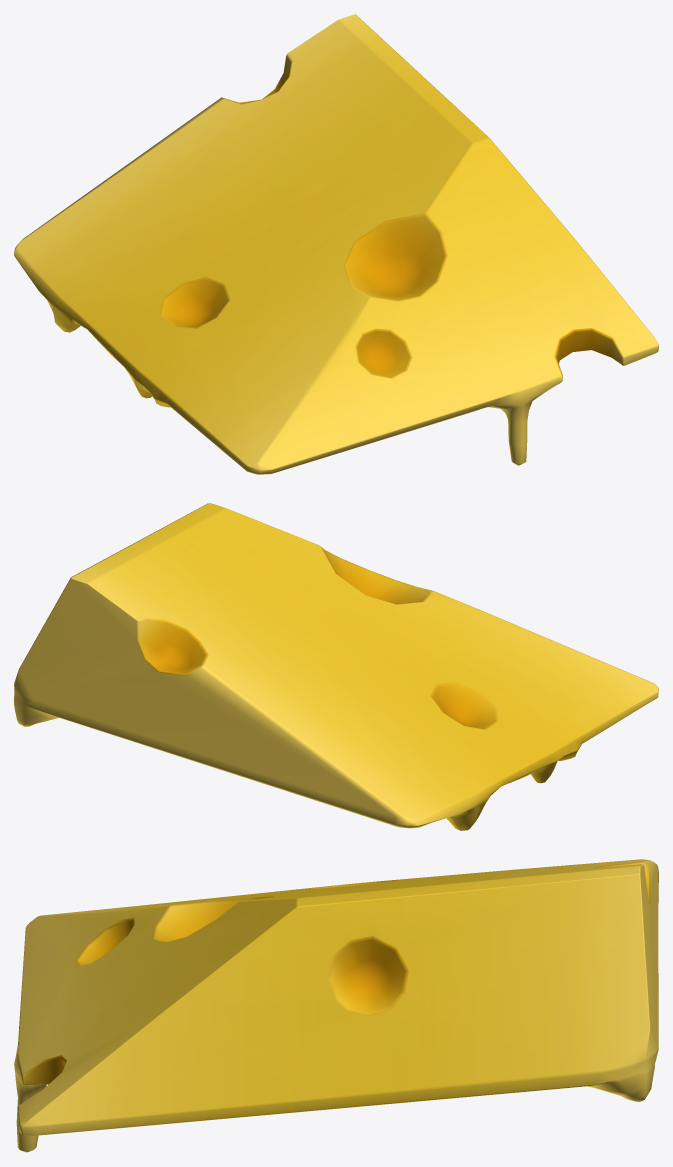
File: mod_sc_roma_topcheese_003.fbx
The picture shows the model from 3 angles, top to bottom: view 1: azimuth 30°, elevation 25°; view 2: azimuth 150°, elevation 25°; view 3: azimuth 270°, elevation 25°; orthographic projection. The views are drawn at different scales.
Visible parts, largest first — view 1: mod_sc_roma_topcheese_003; view 2: mod_sc_roma_topcheese_003; view 3: mod_sc_roma_topcheese_003.
Part boxes in pixels (x1=…): mod_sc_roma_topcheese_003: x1=14, y1=14, x2=658, y2=474; mod_sc_roma_topcheese_003: x1=14, y1=503, x2=658, y2=830; mod_sc_roma_topcheese_003: x1=14, y1=859, x2=658, y2=1152.
Size of what is drawn, in the model's own units: 2078 by 1230 by 2202.
1 material, 1 textured.
